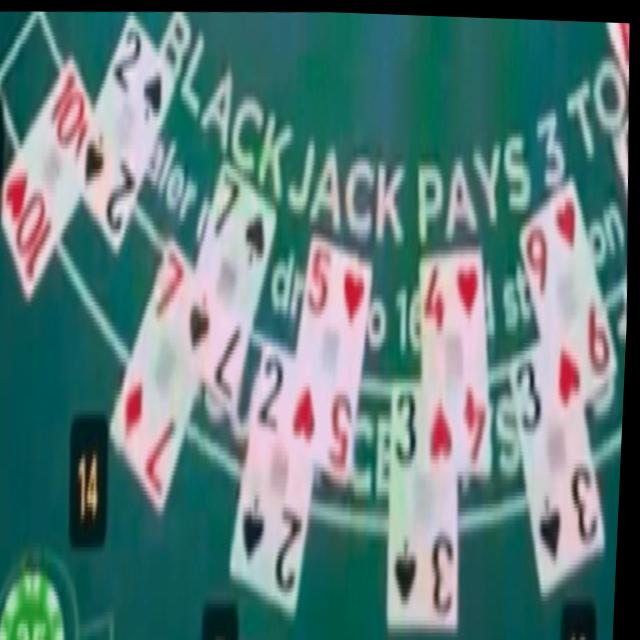Card-10: (0, 43, 93, 298)
Card-2: (76, 10, 174, 253), (235, 339, 318, 610)
Card-3: (513, 338, 609, 588), (393, 379, 462, 623)
Card-4: (421, 245, 494, 471)
Card-5: (294, 230, 373, 481)
Card-7: (179, 158, 278, 414), (112, 230, 201, 501)
Card-9: (521, 170, 620, 419)
